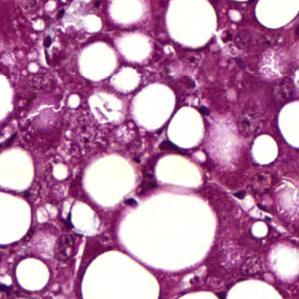steatosis: (78, 152, 137, 205), (133, 82, 178, 133)
